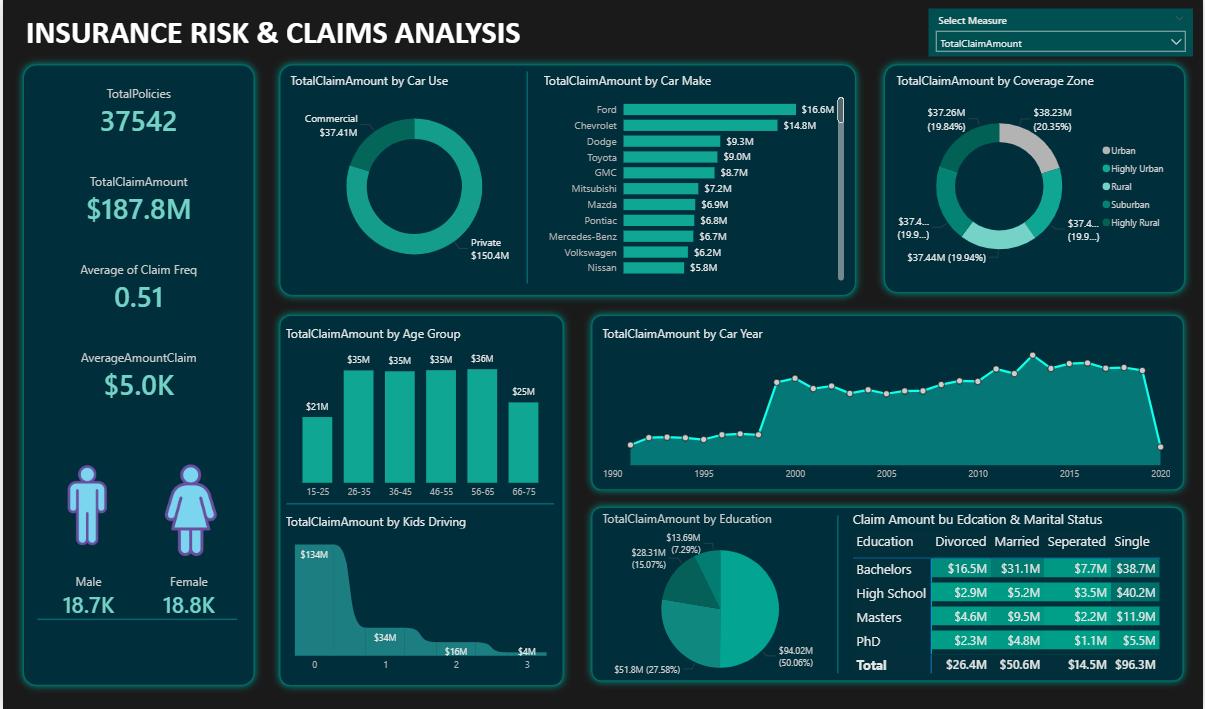

What the dashboard file says about the page in this screenshot:
{"tool":"powerbi","page":{"name":"Page 1","canvas":[1600,950],"ordinal":0},"visuals":[{"type":"textbox","box":[16.5,14.4,682.6,63.9],"z":0},{"type":"shape","box":[16.5,78.4,330,849.7],"z":1000},{"type":"cardVisual","fields":{"Data":["insurance_data_car.TotalPolicies","insurance_data_car.TotalClaimAmount","Avg(insurance_data_car.Claim Freq)","insurance_data_car.AverageAmountClaim"]},"box":[45.4,99,270.2,459.9],"z":2000},{"type":"cardVisual","fields":{"Data":["insurance_data_car.Male Count","insurance_data_car.Female Count"]},"box":[51.6,742.4,259.8,109.3],"z":3000},{"type":"slicer","fields":{"Values":["Select Measure.Select Measure"]},"box":[1233.2,14.4,352.6,63.9],"z":4000},{"type":"shape","box":[358.8,78.4,789.9,330],"z":5000},{"type":"donutChart","fields":{"Y":["insurance_data_car.TotalClaimAmount"],"Category":["insurance_data_car.Car Use"]},"box":[377.4,99,340.3,284.6],"z":6000},{"type":"clusteredBarChart","fields":{"Y":["insurance_data_car.TotalClaimAmount"],"Category":["insurance_data_car.Car Make"]},"box":[716.7,98.3,410,283.3],"z":7000},{"type":"shape","box":[1163.1,78.4,422.8,325.8],"z":8000},{"type":"donutChart","fields":{"Y":["insurance_data_car.TotalClaimAmount"],"Category":["insurance_data_car.Coverage Zone"]},"box":[1186,98,376,284],"z":9000},{"type":"image","box":[52,610,120,132],"z":10000},{"type":"image","box":[182,610,136,146],"z":11000},{"type":"shape","box":[358,412,400,516],"z":12000},{"type":"clusteredColumnChart","fields":{"Y":["insurance_data_car.TotalClaimAmount"],"Category":["insurance_data_car.Age Group"]},"box":[372,436,370,240],"z":13000},{"type":"ribbonChart","fields":{"Y":["insurance_data_car.TotalClaimAmount"],"Category":["insurance_data_car.Kids Driving"]},"box":[371.2,686.7,369.1,220.7],"z":14000},{"type":"shape","box":[773.4,412.5,811,255],"z":15000},{"type":"areaChart","fields":{"Y":["insurance_data_car.TotalClaimAmount"],"Category":["insurance_data_car.Car Year"]},"box":[794,435.1,767.2,216.5],"z":16000},{"type":"shape","box":[773.4,668.2,810.5,253.7],"z":17000},{"type":"pieChart","fields":{"Y":["insurance_data_car.TotalClaimAmount"],"Category":["insurance_data_car.Education"]},"box":[794,682.6,323.8,243.3],"z":18000},{"type":"pivotTable","title":"Claim Amount bu Edcation &  Marital Status ","fields":{"Rows":["insurance_data_car.Education"],"Columns":["insurance_data_car.Marital Status"],"Values":["insurance_data_car.TotalClaimAmount"]},"box":[1128.1,682.6,433.1,239.2],"z":19000},{"type":"shape","box":[664.1,99,70.1,282.5],"z":20000},{"type":"shape","box":[1078.6,690.9,70.1,210.4],"z":21000},{"type":"shape","box":[377.4,629,356.8,92.8],"z":22000},{"type":"shape","box":[45.4,781.6,266,92.8],"z":23000}]}

Visuals, with their boxes in screenshot pixels (x1, y1, x2, y2), scaled from the page's 1600x950 canvas onto the 1205x709 screenshot:
textbox: [12,11,527,58]
shape: [12,59,261,693]
cardVisual - insurance_data_car.TotalPolicies x insurance_data_car.TotalClaimAmount: [34,74,238,417]
cardVisual - insurance_data_car.Male Count x insurance_data_car.Female Count: [39,554,235,636]
slicer - Select Measure.Select Measure: [929,11,1194,58]
shape: [270,59,865,305]
donutChart - insurance_data_car.TotalClaimAmount x insurance_data_car.Car Use: [284,74,541,286]
clusteredBarChart - insurance_data_car.TotalClaimAmount x insurance_data_car.Car Make: [540,73,849,285]
shape: [876,59,1194,302]
donutChart - insurance_data_car.TotalClaimAmount x insurance_data_car.Coverage Zone: [893,73,1176,285]
image: [39,455,130,554]
image: [137,455,239,564]
shape: [270,307,571,693]
clusteredColumnChart - insurance_data_car.TotalClaimAmount x insurance_data_car.Age Group: [280,325,559,505]
ribbonChart - insurance_data_car.TotalClaimAmount x insurance_data_car.Kids Driving: [280,512,558,677]
shape: [582,308,1193,498]
areaChart - insurance_data_car.TotalClaimAmount x insurance_data_car.Car Year: [598,325,1176,486]
shape: [582,499,1193,688]
pieChart - insurance_data_car.TotalClaimAmount x insurance_data_car.Education: [598,509,842,691]
"Claim Amount bu Edcation &  Marital Status " pivotTable: [850,509,1176,688]
shape: [500,74,553,285]
shape: [812,516,865,673]
shape: [284,469,553,539]
shape: [34,583,235,653]
